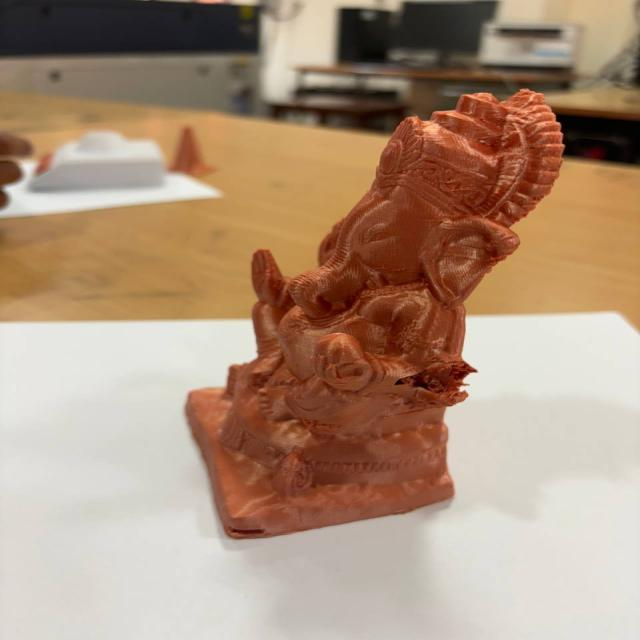cracks: (375, 344, 485, 409), (208, 513, 300, 558)
